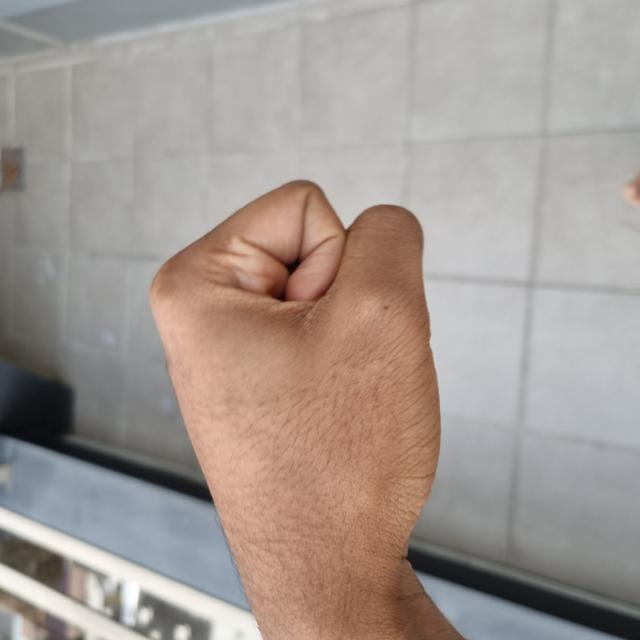Rock: (1, 153, 454, 435)
